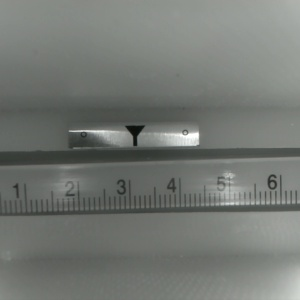1: (12, 184, 20, 199)
2: (64, 181, 76, 196)
3: (115, 179, 125, 194)
4: (165, 177, 176, 193)
6: (267, 174, 277, 190), (216, 176, 225, 191)
finger: (123, 125, 145, 147)
